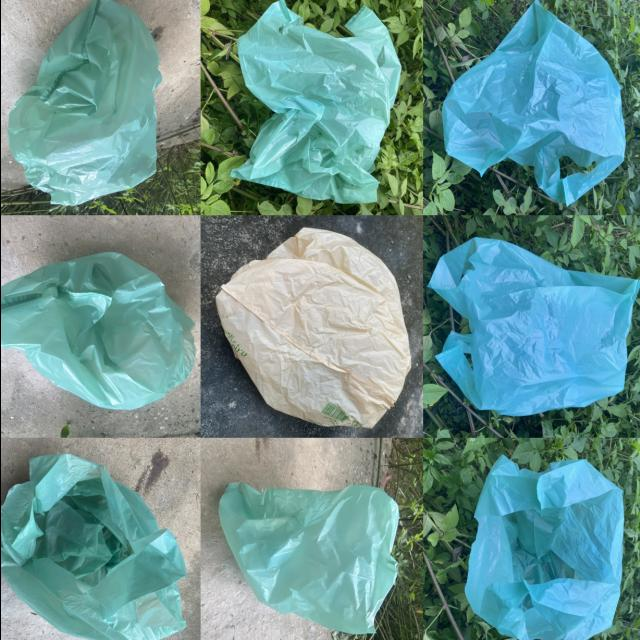plastik: (216, 227, 410, 428), (429, 238, 639, 416), (441, 2, 624, 205), (0, 454, 186, 640), (231, 0, 400, 204), (8, 0, 161, 205), (0, 252, 195, 410), (464, 456, 623, 640), (218, 483, 398, 634)
